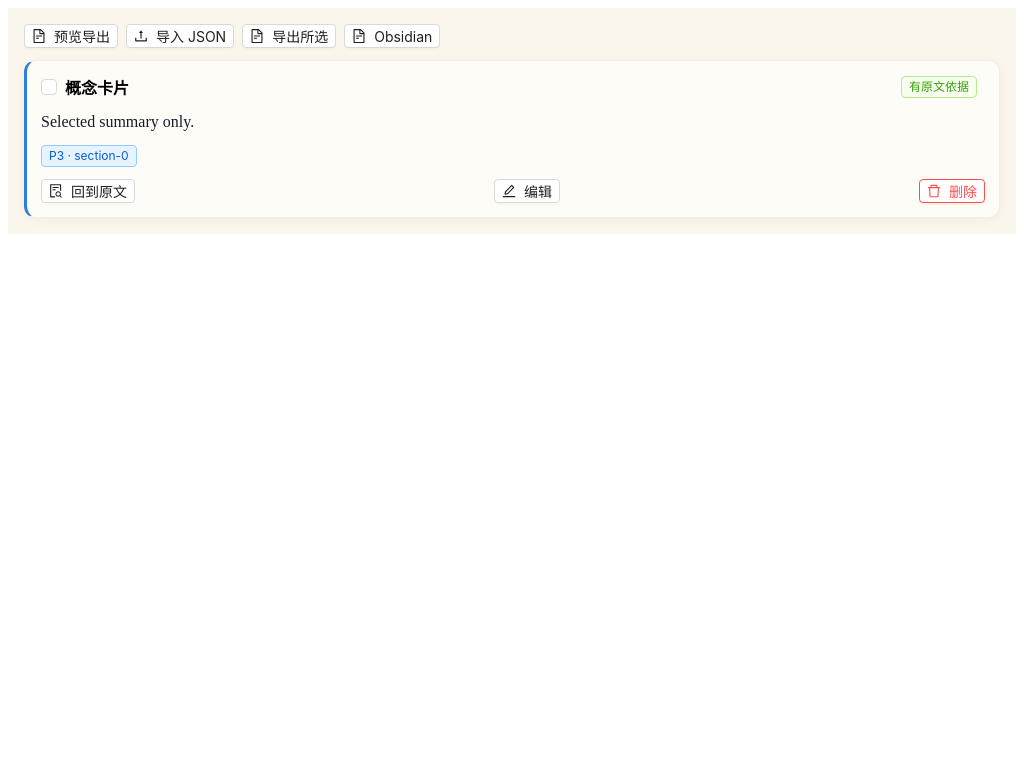
Scenario: ArtifactPanel › clears stale Obsidian preview when no VibeCard remains selected
Click the checkbox named "选择卡片 Concept Card：Introduction" at (49,87), box [41,76,57,98]
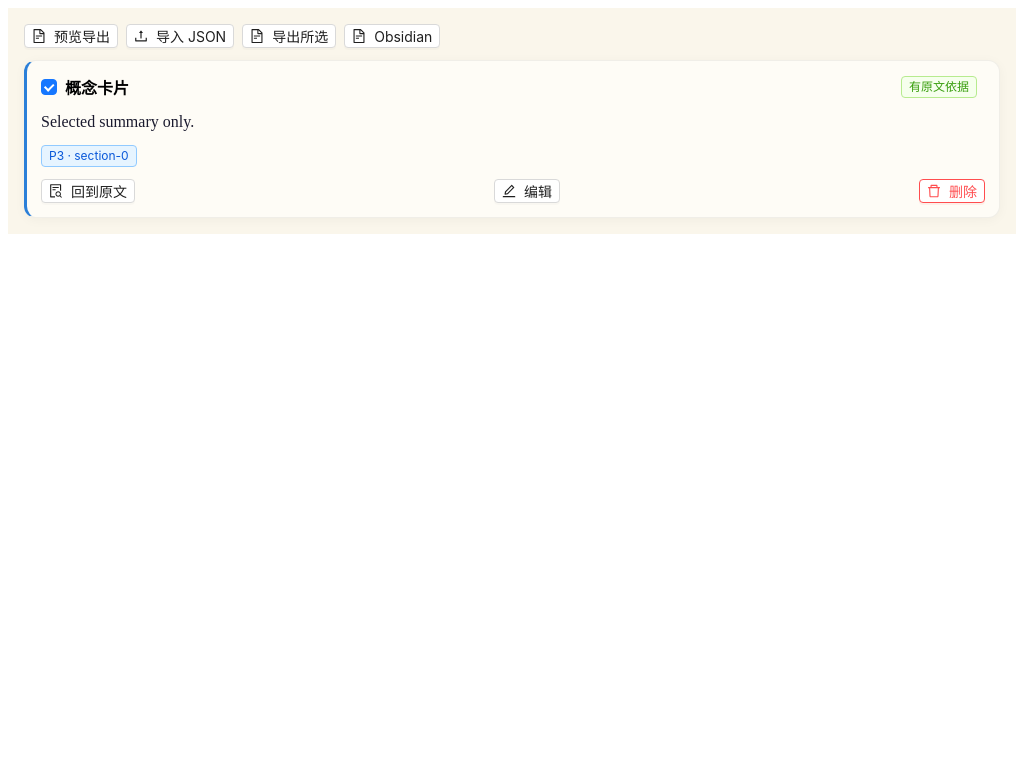
Click the button "Obsidian" at (392,36), box [344,24,440,48]
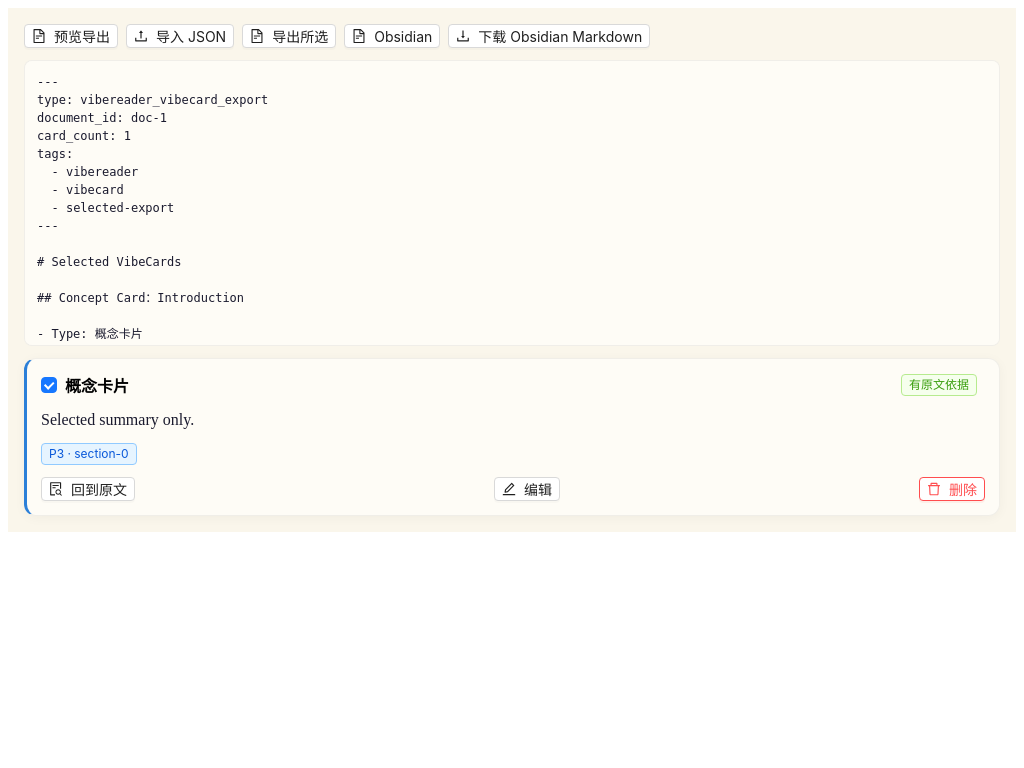
Now the text "type: vibereader_vibecard_export" is shown, box [37,75,297,431]
Click the checkbox named "选择卡片 Concept Card：Introduction" at (49,385), box [41,374,57,396]
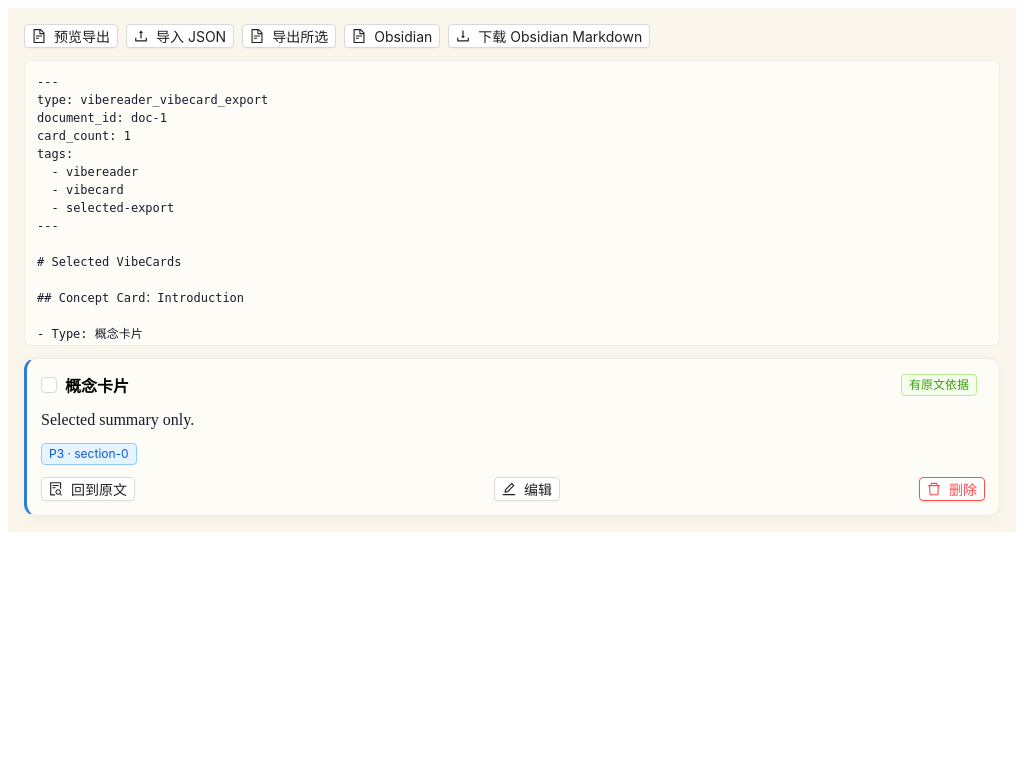
Click the button "Obsidian" at (392,36), box [344,24,440,48]
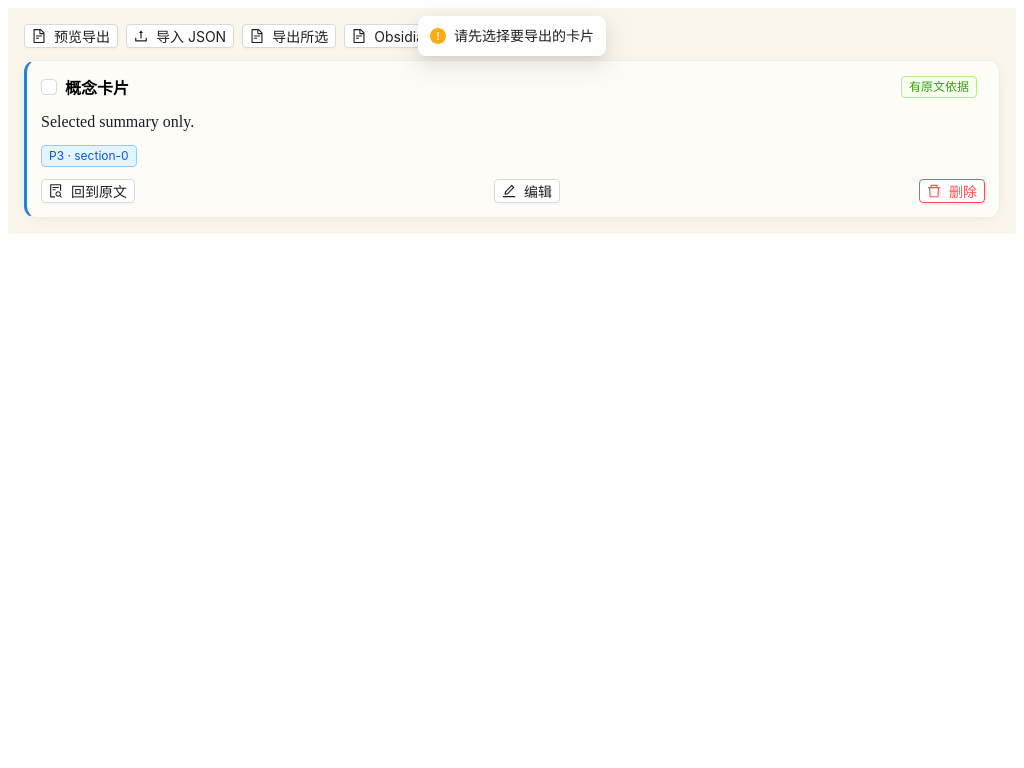
Now the text "type: vibereader_vibecard_export" is gone
